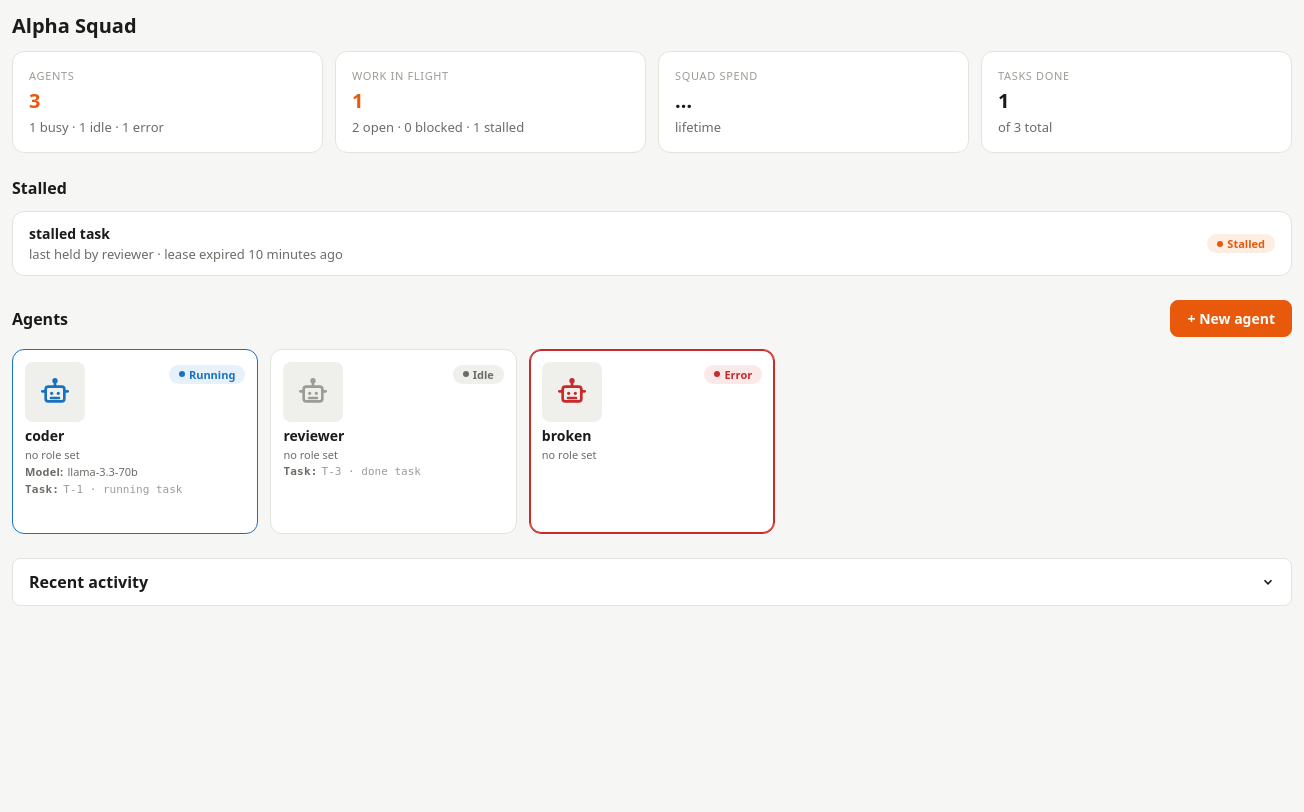
Test: SquadCockpitPage metrics › activity feed resolves agent actors via the squad roster
Click the button "Recent activity".
click(89, 582)  # box [12,558,1292,606]
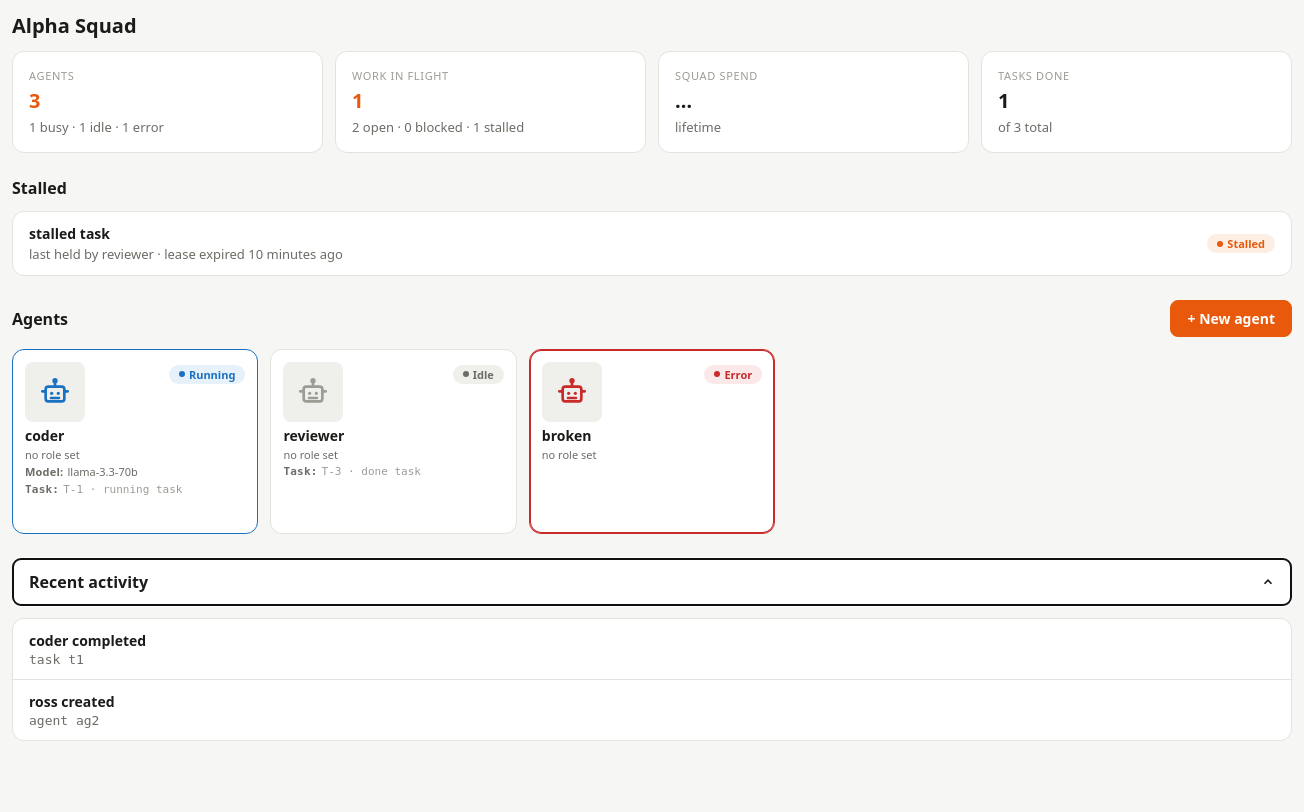
Now the text "coder" next to "completed" is shown, box [29,631,68,650]
Now the text "coder" shows "completed", box [72,631,146,650]
